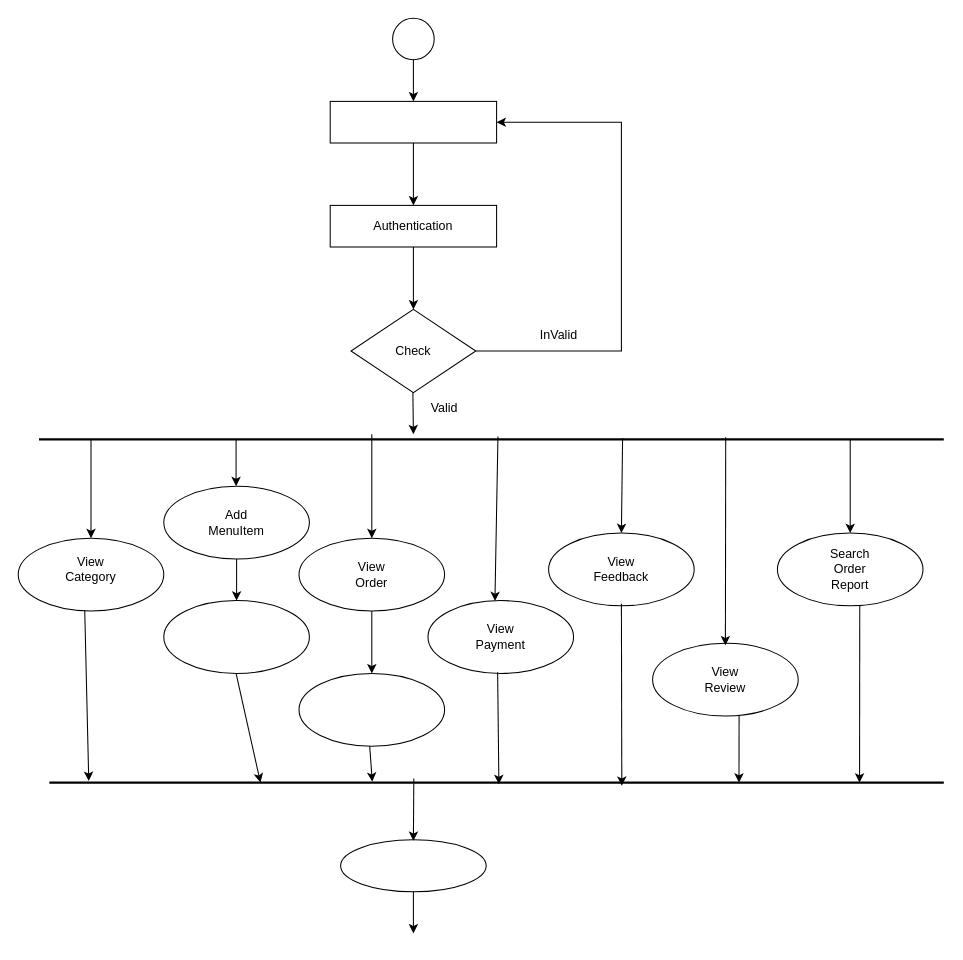
This 963x960 diagram has some shape labels left out. Here are the shapes that lost their labels. From the top down, the box of each, then its label:
(329, 100, 497, 143): Login
(163, 600, 309, 673): Update/Delete MenuItem
(298, 672, 445, 746): Update Order Status
(340, 839, 486, 892): Logout
